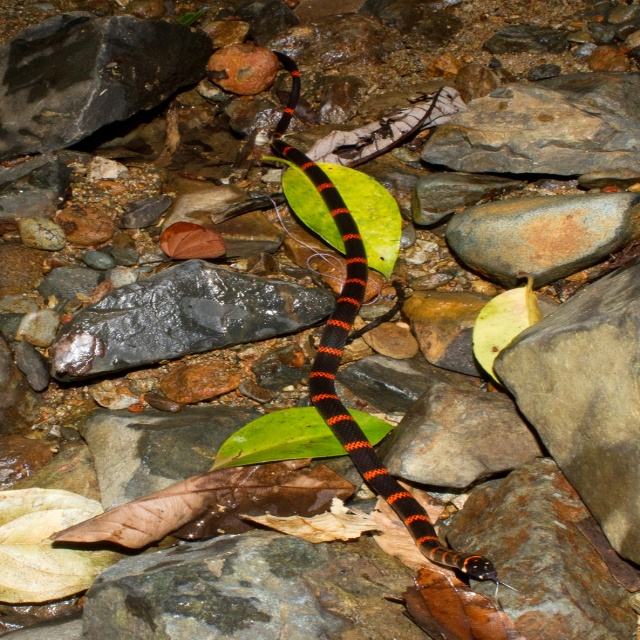Snake: (269, 46, 519, 604)
